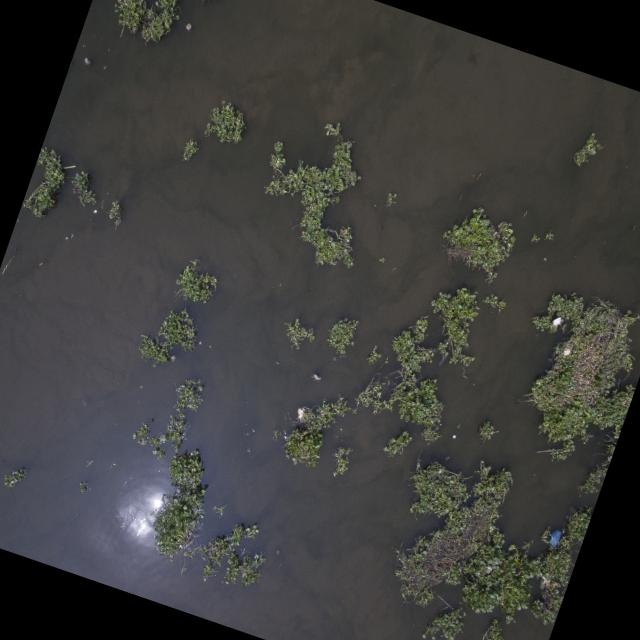Plastic: (547, 527, 562, 547), (294, 404, 306, 421), (550, 313, 564, 327), (310, 368, 322, 384), (562, 345, 572, 357), (82, 56, 92, 67), (169, 352, 178, 362), (185, 22, 192, 32)
